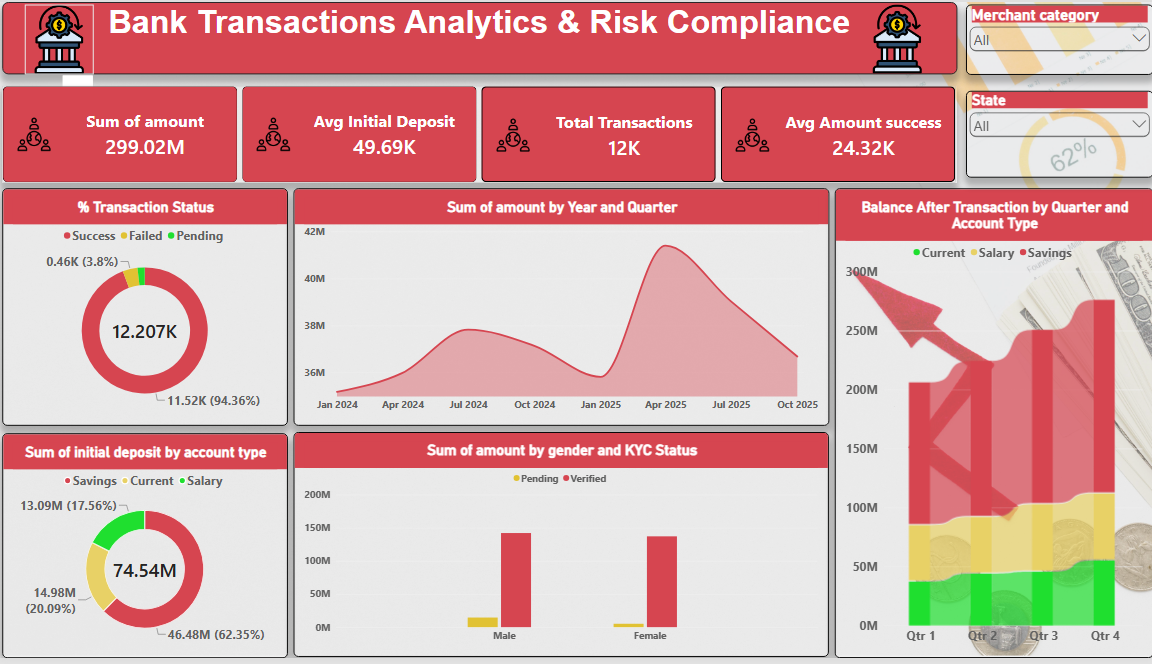

What the dashboard file says about the page in this screenshot:
{"tool":"powerbi","page":{"name":"Dashboard","canvas":[1920,1080],"ordinal":1},"visuals":[{"type":"textbox","box":[10.3,0,1572.6,119.4],"z":0},{"type":"image","box":[47.3,4.1,113.2,115.3],"z":1000},{"type":"image","box":[1424.4,4.1,119.4,113.2],"z":2000},{"type":"cardVisual","fields":{"Data":["Sum(bank_transactions_db bank_transactions.amount)","account_holders.Avg Initial Deposit","account_holders.Total Transactions","account_holders.Avg_Amount_success"]},"box":[10.3,137.9,1573,160],"z":3000},{"type":"donutChart","title":"% Transaction Status","fields":{"Category":["bank_transactions.transaction_status"],"Y":["CountNonNull(bank_transactions.transaction_id)"]},"box":[10.3,306.7,470,391],"z":4000},{"type":"donutChart","fields":{"Category":["bank_transactions_db account_holders.account_type"],"Y":["Sum(bank_transactions_db account_holders.initial_deposit)"]},"box":[10.3,710.1,470,370.5],"z":5000},{"type":"areaChart","fields":{"Category":["bank_transactions.transaction_date.Variation.Date Hierarchy.Year","bank_transactions.transaction_date.Variation.Date Hierarchy.Quarter"],"Y":["Sum(bank_transactions.amount)"]},"box":[489.9,306.7,882,391],"z":6000},{"type":"ribbonChart","fields":{"Category":["bank_transactions.transaction_date.Variation.Date Hierarchy.Quarter"],"Series":["account_holders.account_type"],"Y":["Sum(bank_transactions.balance_after_transaction)"]},"box":[1381.1,306.7,524.9,773.9],"z":7000},{"type":"clusteredColumnChart","fields":{"Category":["account_holders.gender"],"Series":["account_holders.kyc_status"],"Y":["Sum(bank_transactions.amount)"]},"box":[490.9,709.1,881.8,370.5],"z":8000},{"type":"slicer","fields":{"Values":["bank_transactions.merchant_category"]},"box":[1597.3,4.1,308.7,116],"z":9000},{"type":"slicer","fields":{"Values":["account_holders.state"]},"box":[1597.3,146.1,308.7,143],"z":10000}]}

Visuals, with their boxes in screenshot pixels (x1, y1, x2, y2), scaled from the page's 1920x1080 canvas onto the 1152x664 screenshot:
textbox: (6,0,950,73)
image: (28,3,96,73)
image: (855,3,926,72)
cardVisual - Sum(bank_transactions_db bank_transactions.amount) x account_holders.Avg Initial Deposit: (6,85,950,183)
"% Transaction Status" donutChart: (6,189,288,429)
donutChart - bank_transactions_db account_holders.account_type x Sum(bank_transactions_db account_holders.initial_deposit): (6,437,288,663)
areaChart - bank_transactions.transaction_date.Variation.Date Hierarchy.Year x bank_transactions.transaction_date.Variation.Date Hierarchy.Quarter: (294,189,823,429)
ribbonChart - bank_transactions.transaction_date.Variation.Date Hierarchy.Quarter x account_holders.account_type: (829,189,1144,663)
clusteredColumnChart - account_holders.gender x account_holders.kyc_status: (295,436,824,663)
slicer - bank_transactions.merchant_category: (958,3,1144,74)
slicer - account_holders.state: (958,90,1144,178)
